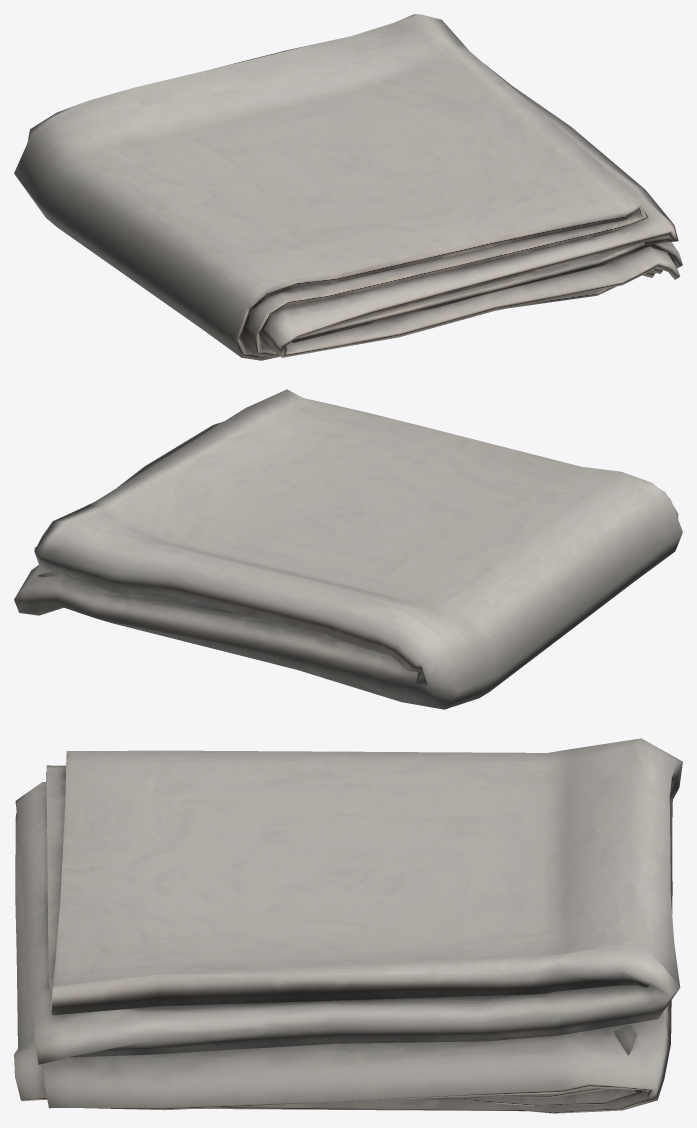
File: SM_Towel_01.fbx
The picture shows the model from 3 angles, top to bottom: view 1: azimuth 30°, elevation 25°; view 2: azimuth 150°, elevation 25°; view 3: azimuth 270°, elevation 25°; orthographic projection. The views are drawn at different scales.
Parts seen in each view (by area): view 1: SM_Towel_01_LOD0; view 2: SM_Towel_01_LOD0; view 3: SM_Towel_01_LOD0.
Part boxes in pixels (<box>): SM_Towel_01_LOD0: <box>14,14,682,360</box>; SM_Towel_01_LOD0: <box>14,389,682,709</box>; SM_Towel_01_LOD0: <box>14,738,682,1113</box>.
Bounding box in the file's own units: 36.23 × 34.85 × 8.38.
Materials: 1 (1 with a texture image).
